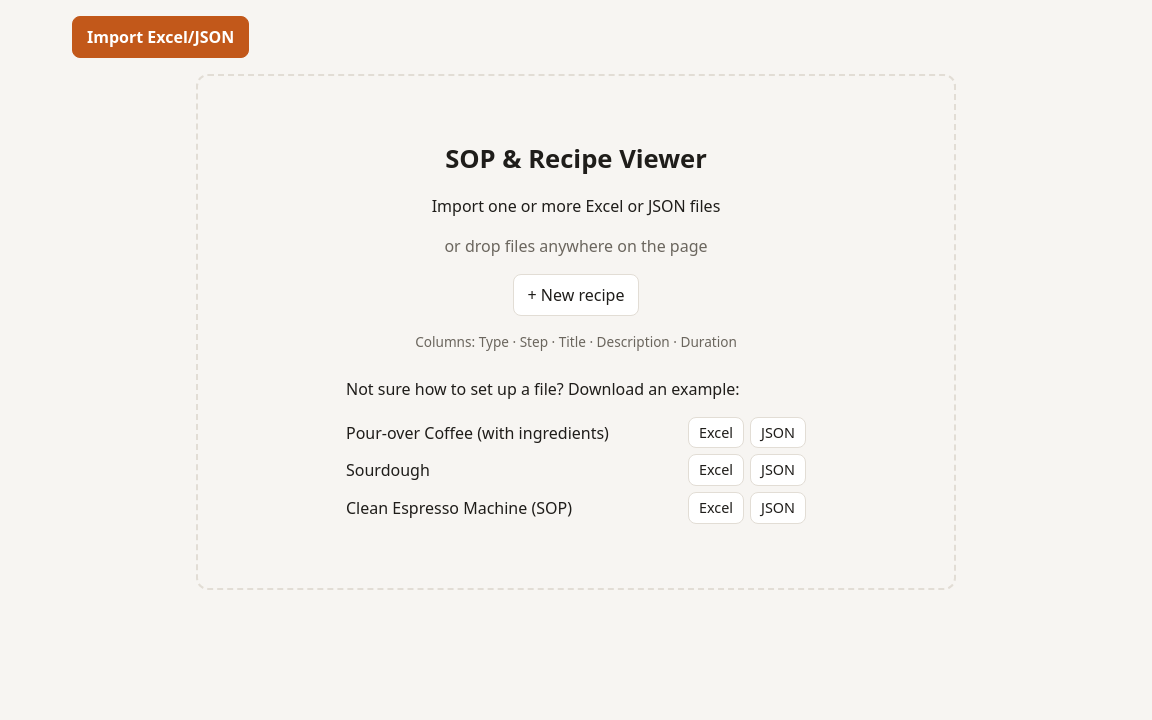
Test: a second new recipe gets the next number
Click the button "+ New recipe" at (576, 295), box 512,274 -> 639,316
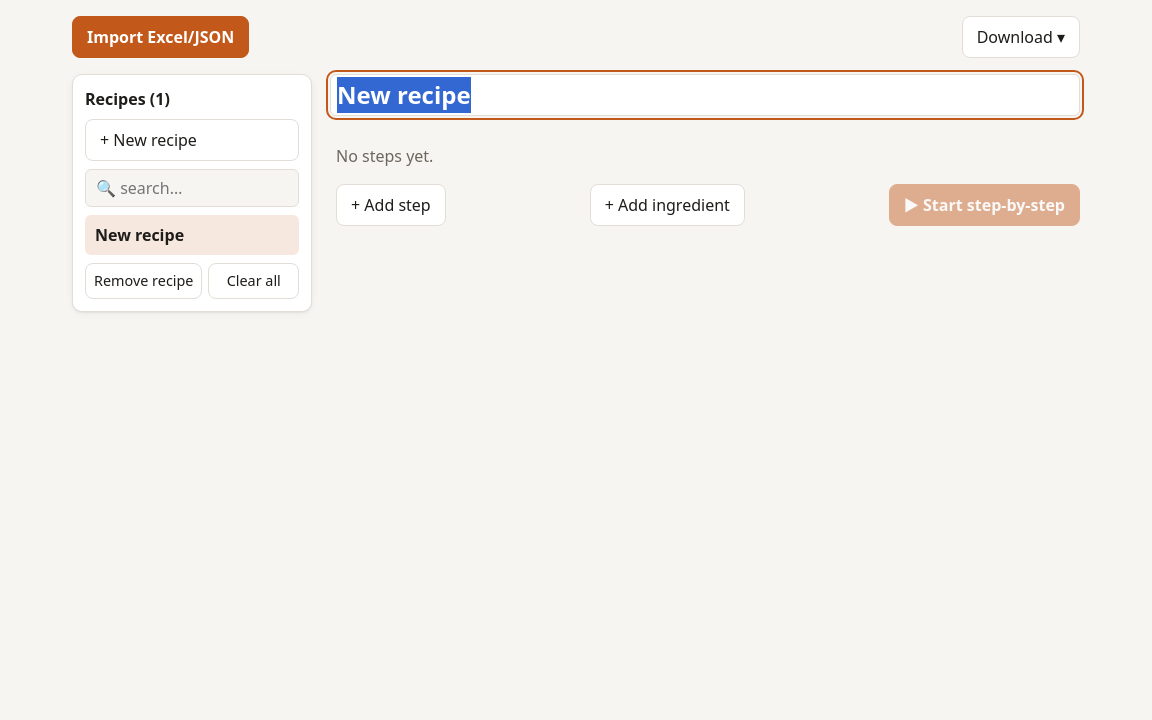
Click the button "+ New recipe" at (192, 140), box 85,119 -> 299,161
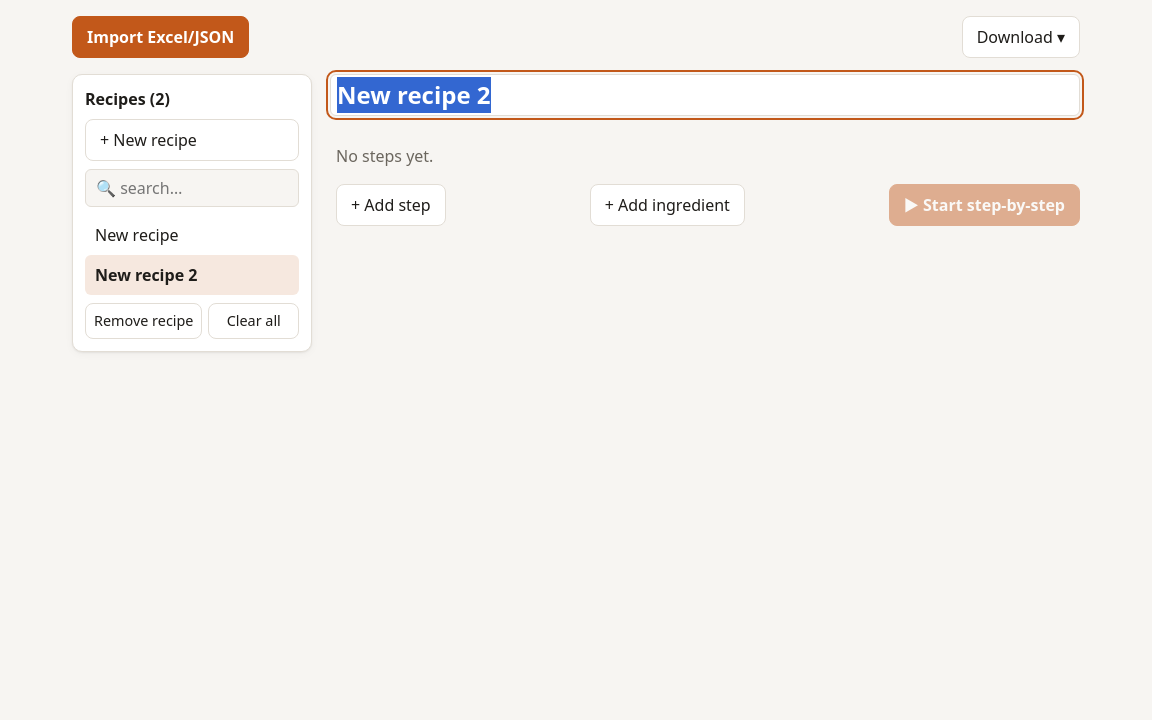
Expected: the button "New recipe 2" is shown, 85,255 -> 299,295
